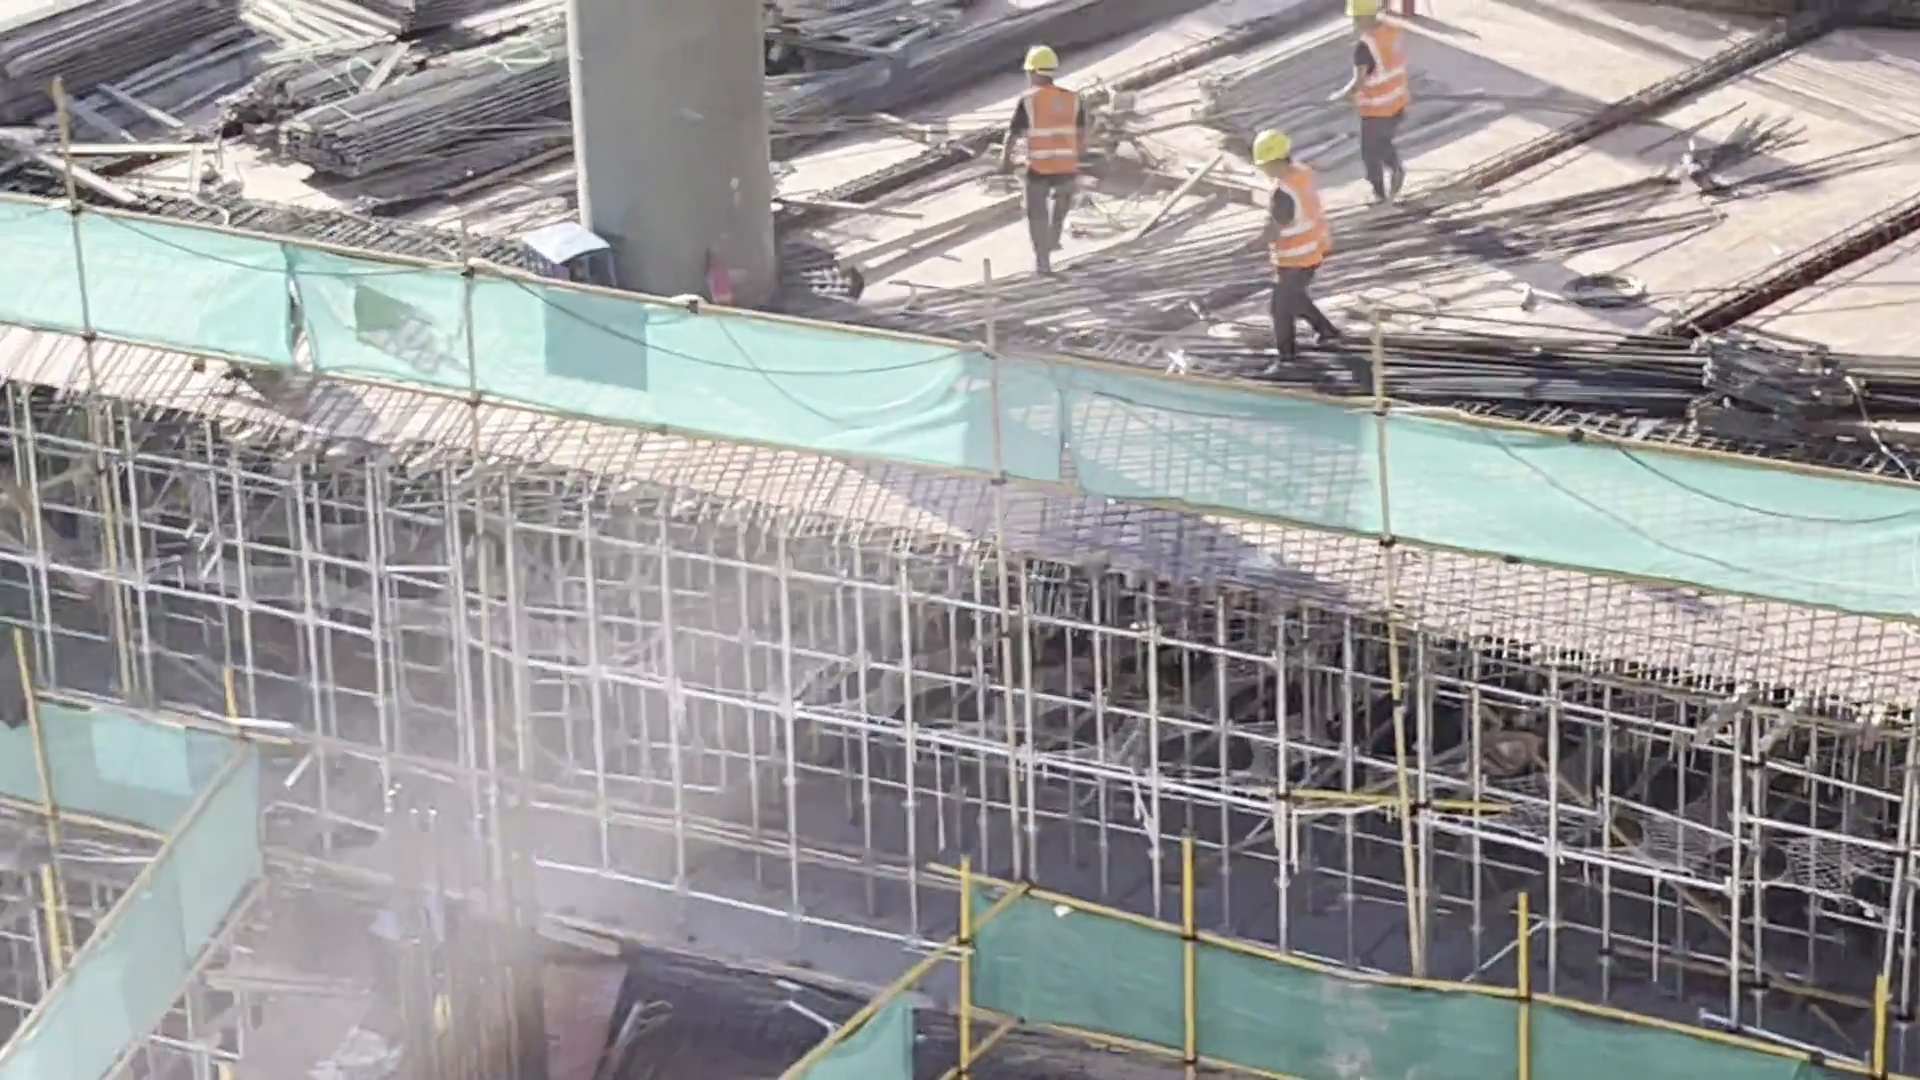helmet: (1241, 115, 1282, 163), (1027, 33, 1067, 76), (1350, 1, 1393, 23)
person: (1221, 115, 1328, 395), (992, 39, 1077, 293), (1331, 1, 1425, 202)
vest: (1249, 168, 1339, 279), (1020, 86, 1081, 196), (1348, 27, 1409, 119)
